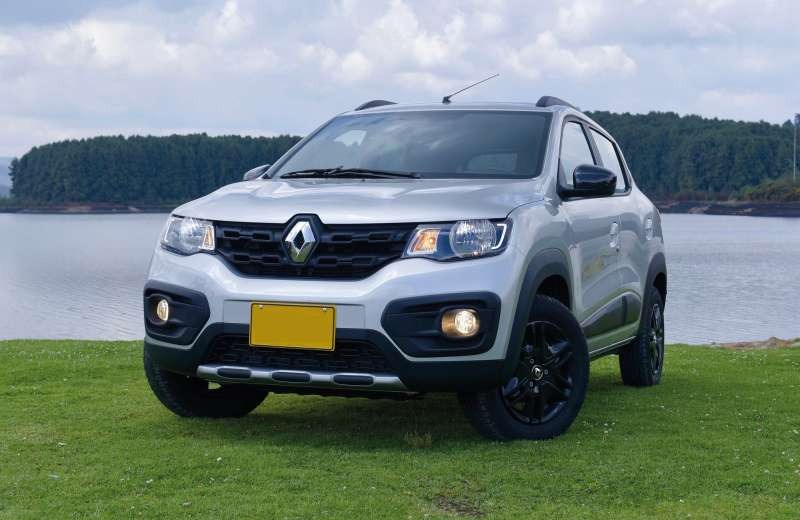car: (139, 97, 681, 456), (123, 105, 673, 438)
